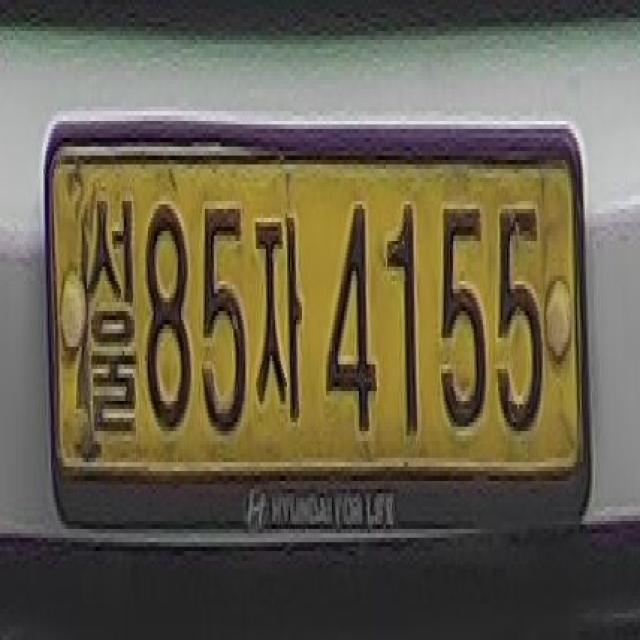plat: (43, 111, 590, 538)
